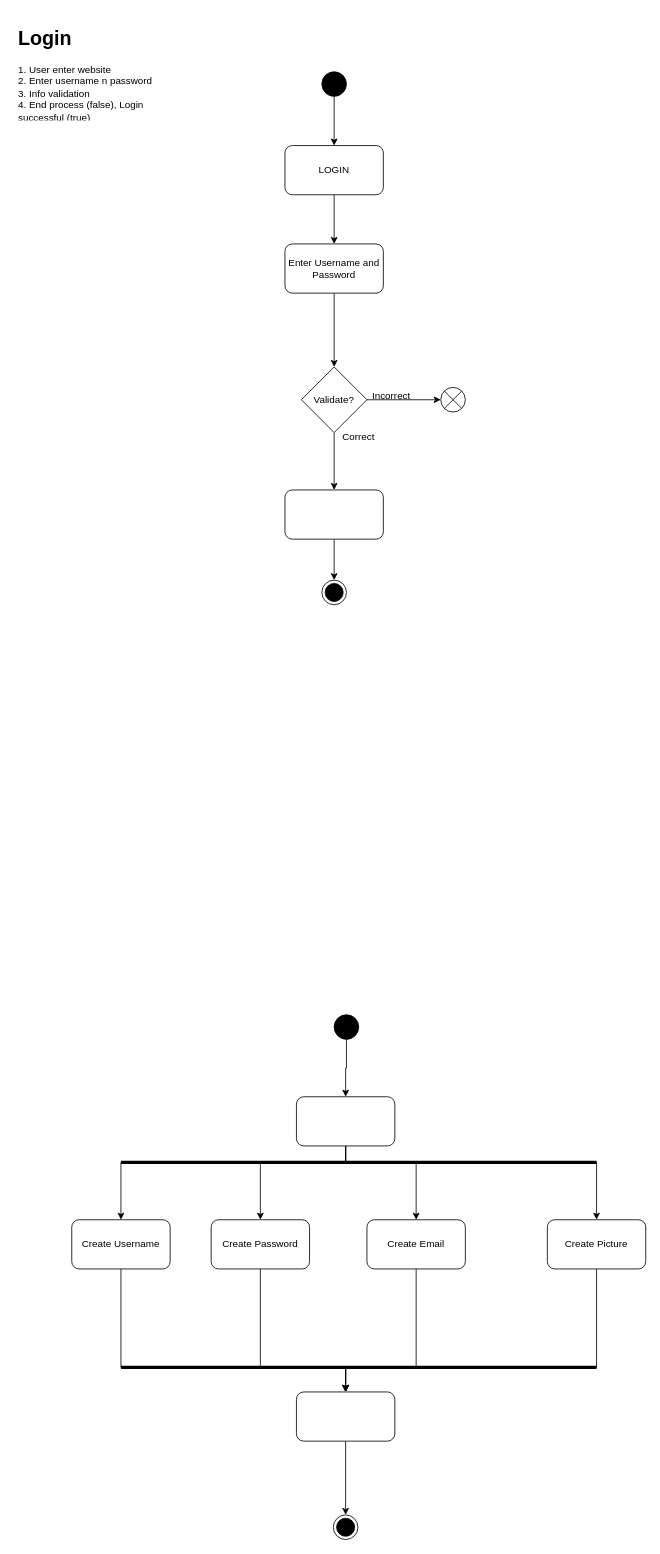
Image size: 660x1554. Some labels were removed from this diagram. Each missing label, with the centre of its shape:
Create Profile: the point at 345,1121
Login Successful: the point at 333,514
User Register: the point at 345,1416
